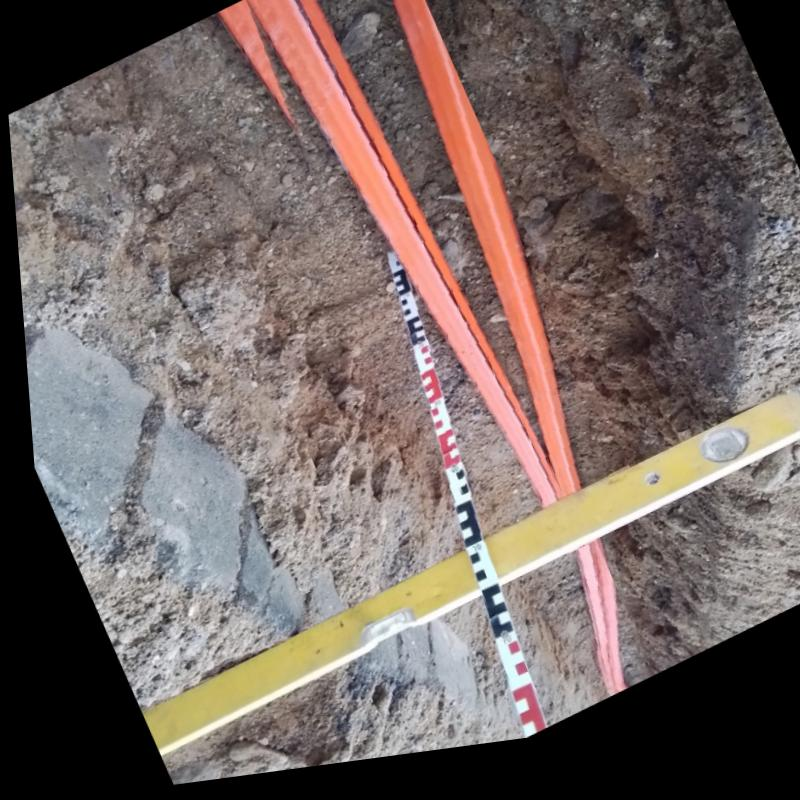Orang-Speednetrohrchen: (240, 0, 572, 523), (563, 556, 617, 711)
